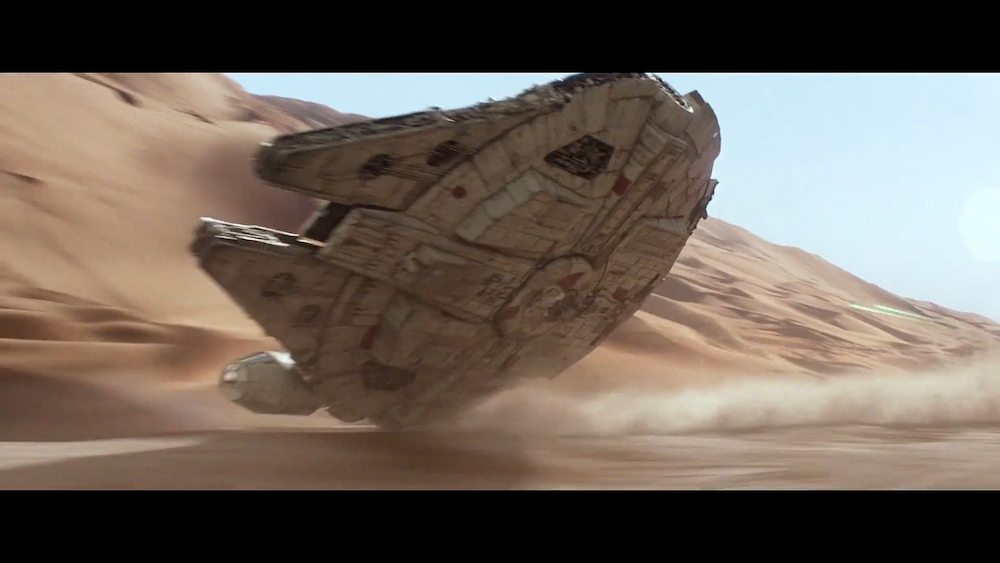Millennium Falcon: (188, 74, 723, 428)
